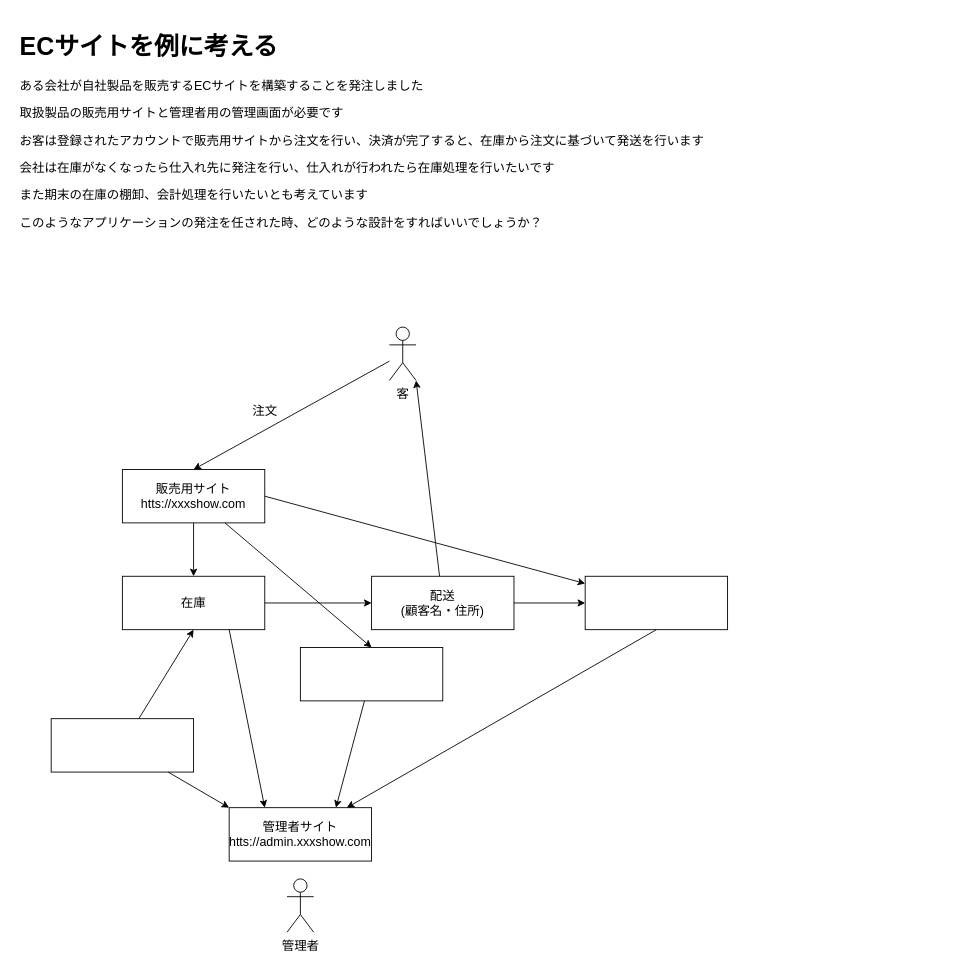
The diagram is 956 pixels wide and 968 high, and some of its shapes have lost their labels. Each missing label, with the centre of its shape:
"仕入れ先" belongs at point 122,745.
"会計" belongs at point 371,674.
"顧客情報 (顧客名・住所・クレジットカード)" belongs at point 656,602.
